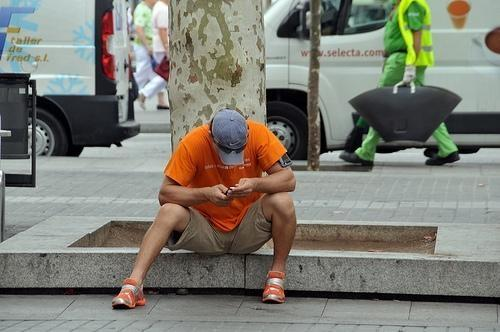truck: (263, 0, 499, 158), (0, 0, 141, 158)
